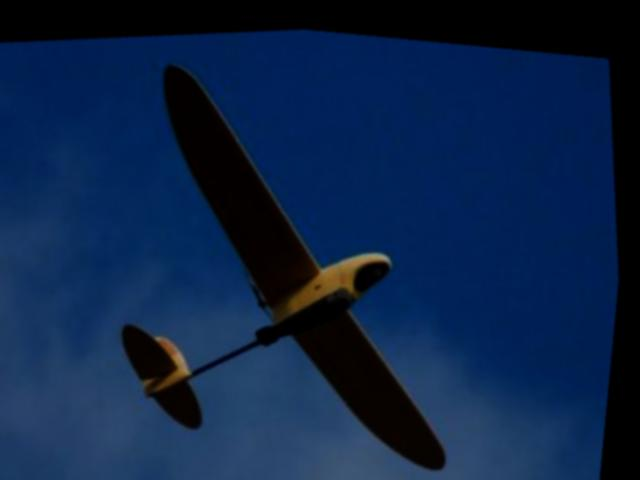uav: (74, 14, 489, 480)
